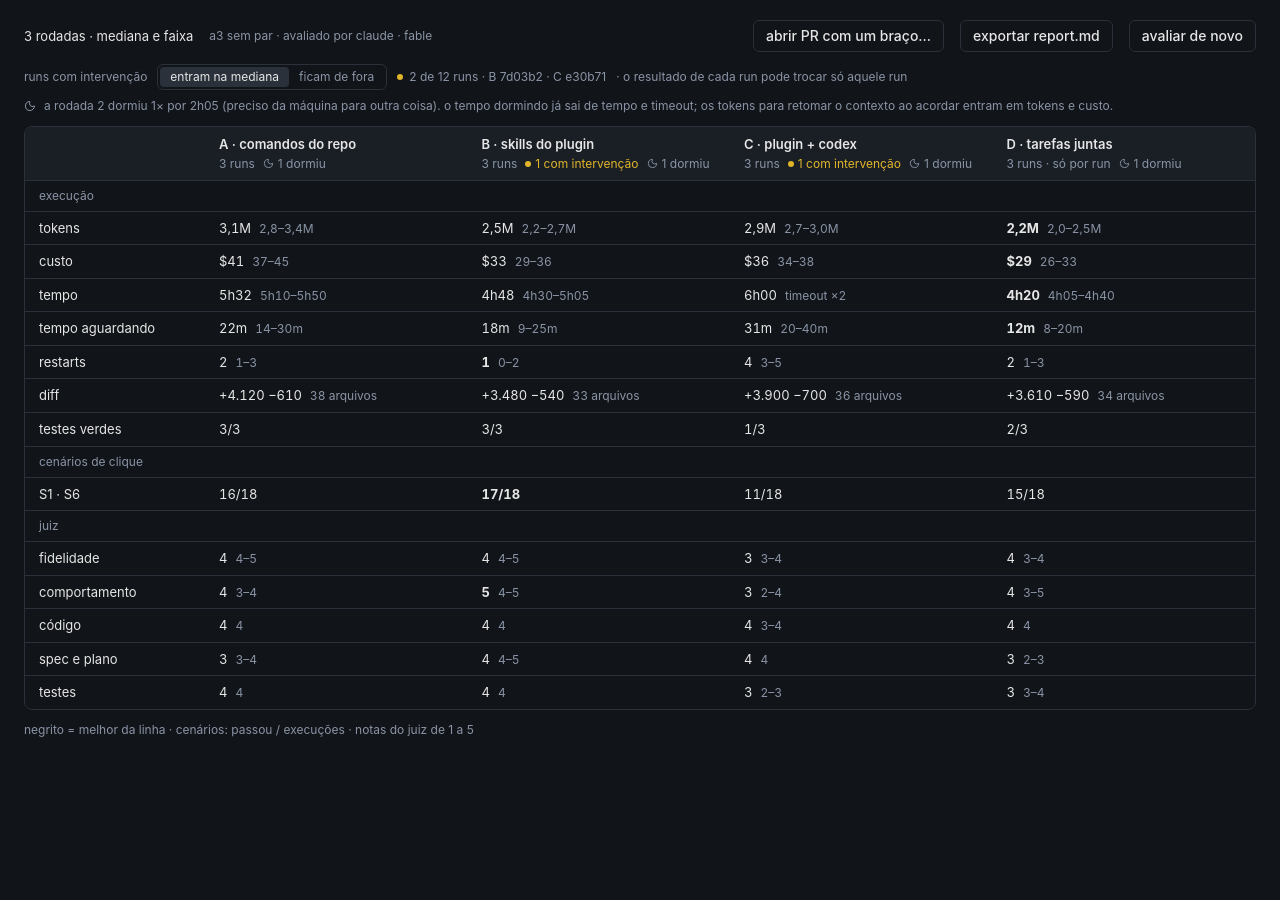
it: ficam de fora refetches with filter=out and shows its medians; a new experiment object refetches, another experiment starts back on in (#467)
Click the button "ficam de fora".
click(337, 77)  # box [289,67,384,87]
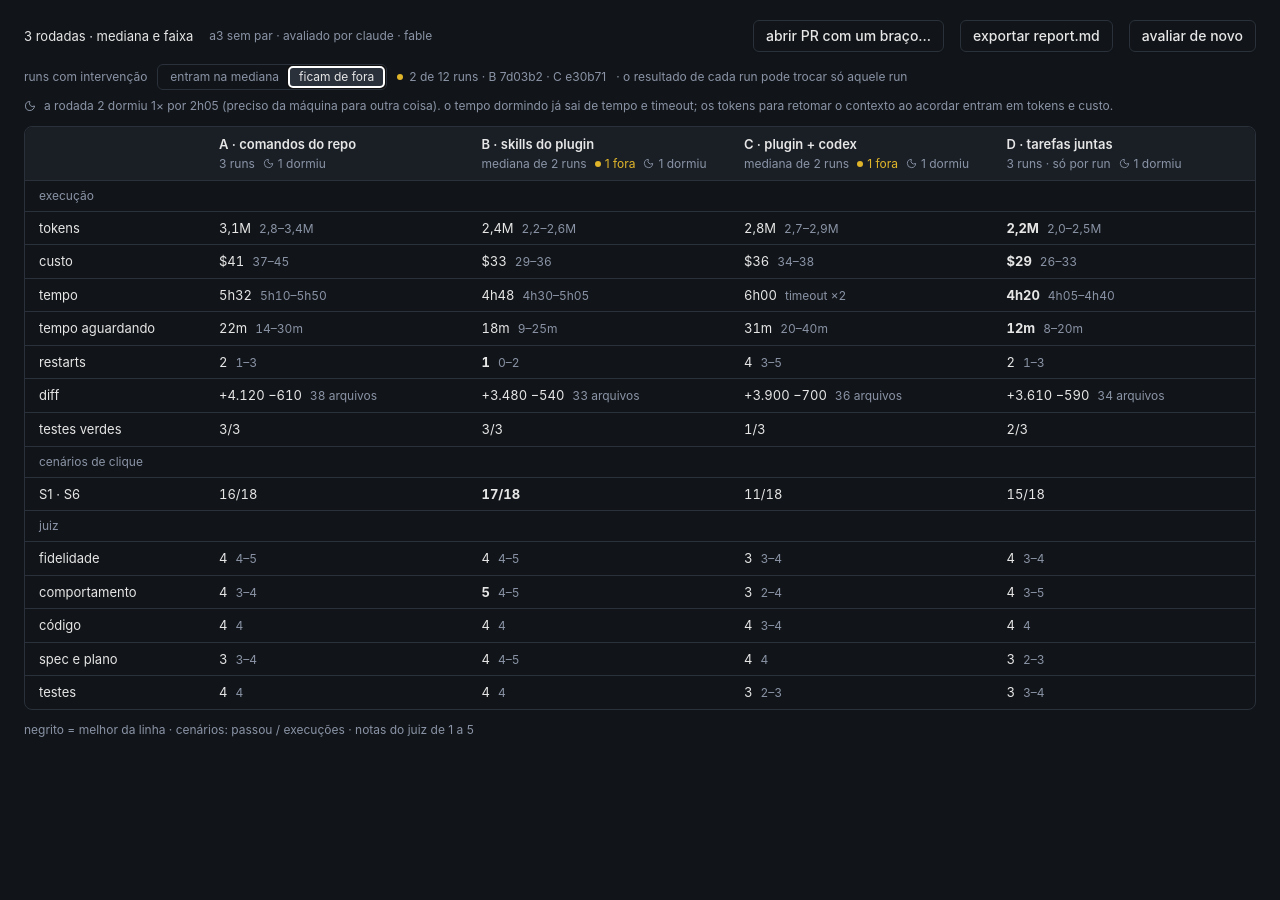
Expected: the cell "2,4M 2,2–2,6M" is shown, [482,220,576,236]
Expected: the column heading "B · skills do plugin mediana de 2 runs 1 fora 1 dormiu" is shown, [468,127,730,180]
